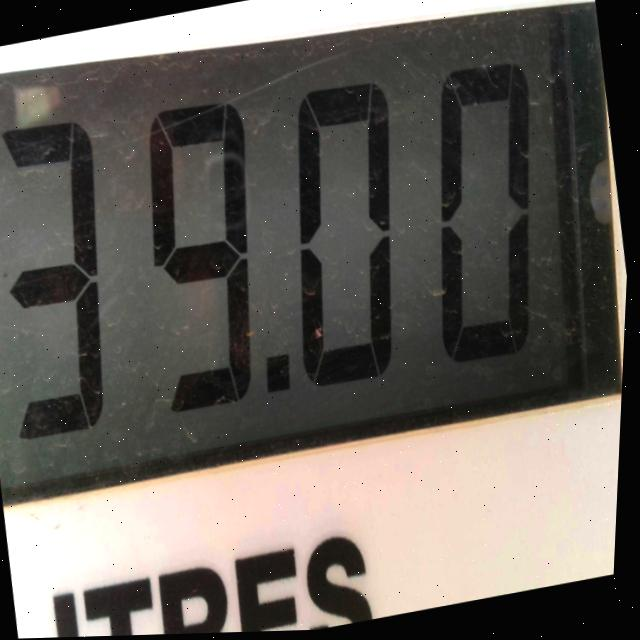.: (254, 329, 312, 422)
0: (252, 55, 435, 410), (392, 44, 578, 378)
3: (0, 86, 150, 463)
9: (118, 91, 286, 426)
